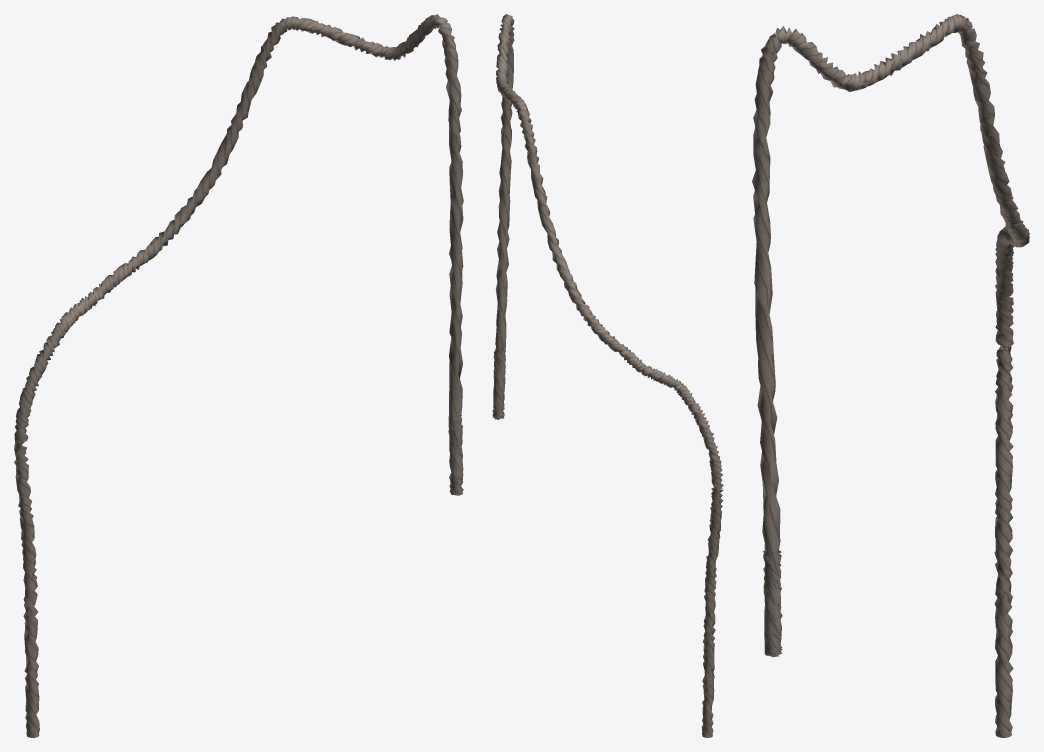
File: SM_RopeSplineMesh_Splines_38.fbx
The picture shows the model from 3 angles, left to right: view 1: azimuth 30°, elevation 25°; view 2: azimuth 150°, elevation 25°; view 3: azimuth 270°, elevation 25°; orthographic projection. The views are drawn at different scales.
Visible parts, largest first — view 1: SM_RopeSplineMesh_Splines_38; view 2: SM_RopeSplineMesh_Splines_38; view 3: SM_RopeSplineMesh_Splines_38.
Part boxes in pixels (box(x1,y1,x2,y2)): SM_RopeSplineMesh_Splines_38: box(14, 14, 463, 737); SM_RopeSplineMesh_Splines_38: box(492, 14, 723, 737); SM_RopeSplineMesh_Splines_38: box(752, 14, 1029, 737).
Size of the model in its own units: 72.34 by 37.56 by 136.
